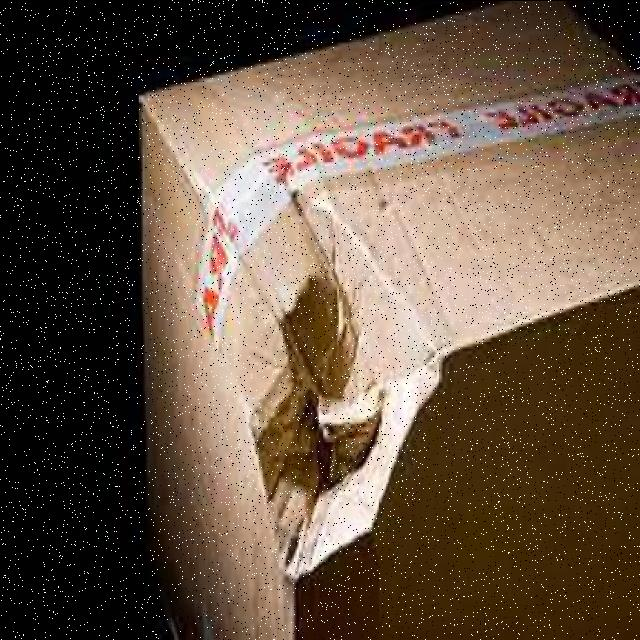defect: (139, 7, 633, 640)
